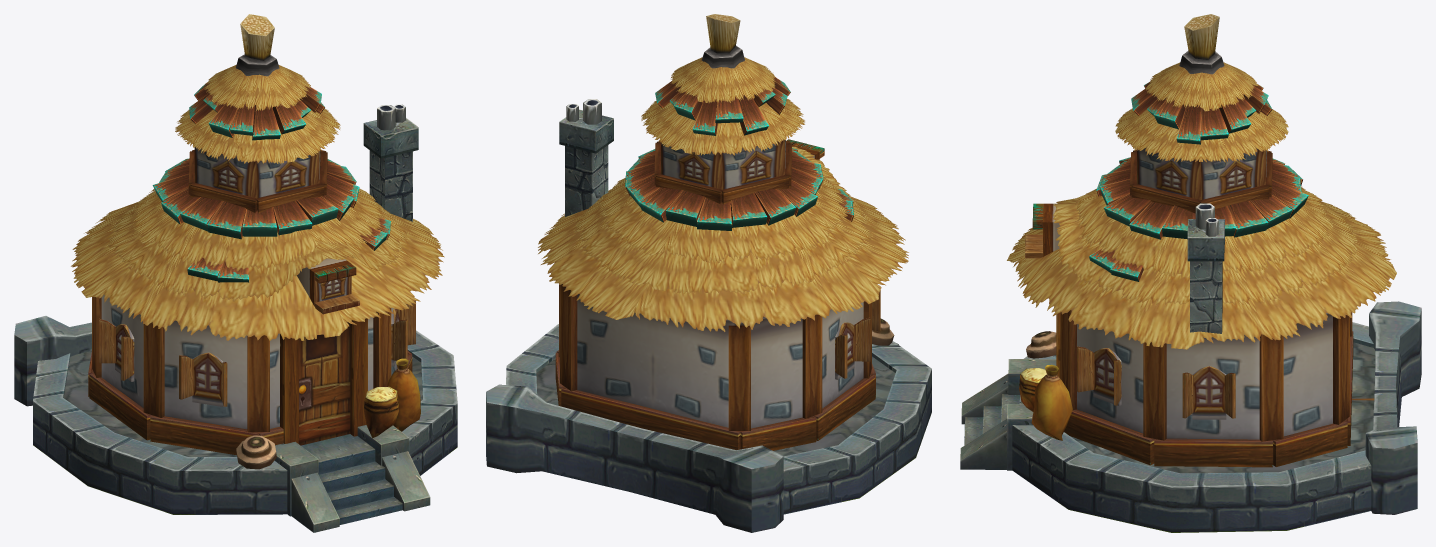
File: fangzi03.FBX
3 views of the same model, side by side, from view 1: azimuth 30°, elevation 25°; view 2: azimuth 150°, elevation 25°; view 3: azimuth 270°, elevation 25° (orthographic). The views are drawn at different scales.
Visible parts, largest first — view 1: fangzi03; view 2: fangzi03; view 3: fangzi03.
Boxes of the visible parts, bbox=[...] form: fangzi03: bbox=[14, 14, 457, 532]; fangzi03: bbox=[486, 14, 931, 532]; fangzi03: bbox=[960, 14, 1421, 532].
Size of the model in its own units: 332 by 361 by 355.
